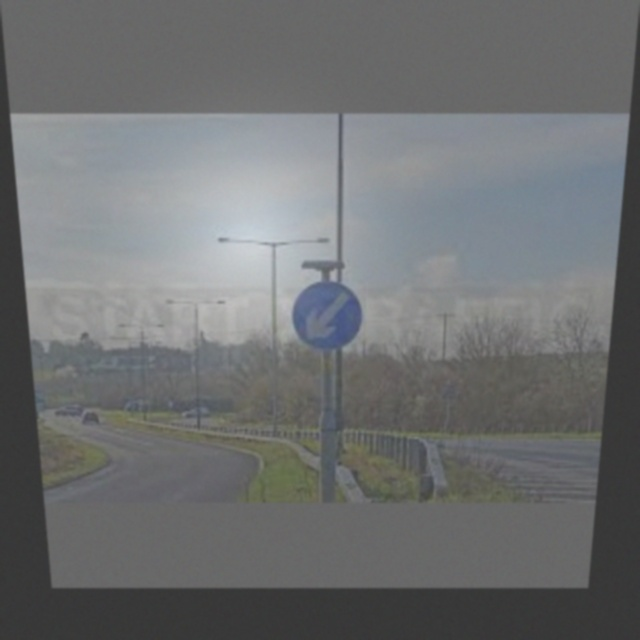Compulsory_Keep_Left: (293, 277, 362, 353)
